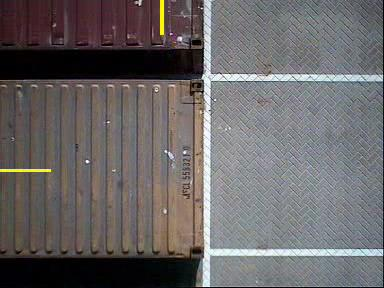groundmarker_2: (195, 165, 227, 220), (199, 1, 221, 25)
